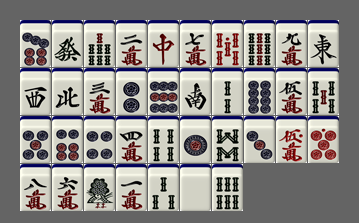0m: (276, 116, 307, 163)
0p: (308, 116, 339, 163)
0s: (212, 20, 243, 67)
1m: (116, 164, 147, 211)
1p: (180, 116, 211, 163)
1s: (84, 164, 115, 211)
1z: (308, 20, 339, 67)
2m: (116, 20, 147, 67)
2p: (116, 68, 147, 115)
2s: (212, 68, 243, 115)
2z: (180, 68, 211, 115)
3m: (84, 68, 115, 115)
3p: (244, 116, 275, 163)
3s: (148, 164, 179, 211)
3z: (20, 68, 51, 115)
4m: (116, 116, 147, 163)
4p: (84, 116, 115, 163)
4s: (148, 116, 179, 163)
4z: (52, 68, 83, 115)
5m: (276, 68, 307, 115)
5p: (20, 116, 51, 163)
5s: (308, 68, 339, 115)
5z: (180, 164, 211, 211)
6m: (52, 164, 83, 211)
6p: (52, 116, 83, 163)
6s: (212, 164, 243, 211)
6z: (52, 20, 83, 67)
7m: (180, 20, 211, 67)
7p: (20, 20, 51, 67)
7s: (84, 20, 115, 67)
7z: (148, 20, 179, 67)
8m: (20, 164, 51, 211)
8p: (244, 68, 275, 115)
8s: (212, 116, 243, 163)
9m: (276, 20, 307, 67)
9p: (148, 68, 179, 115)
9s: (244, 20, 275, 67)
